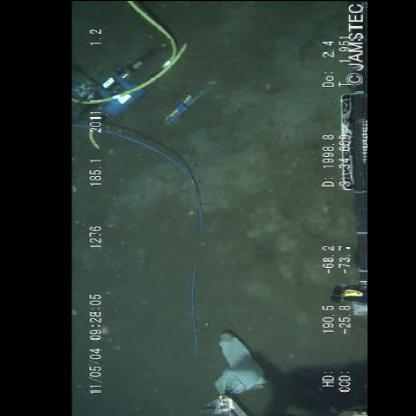Rov: (72, 27, 212, 146), (326, 1, 366, 320)
Rác: (212, 328, 270, 400)
